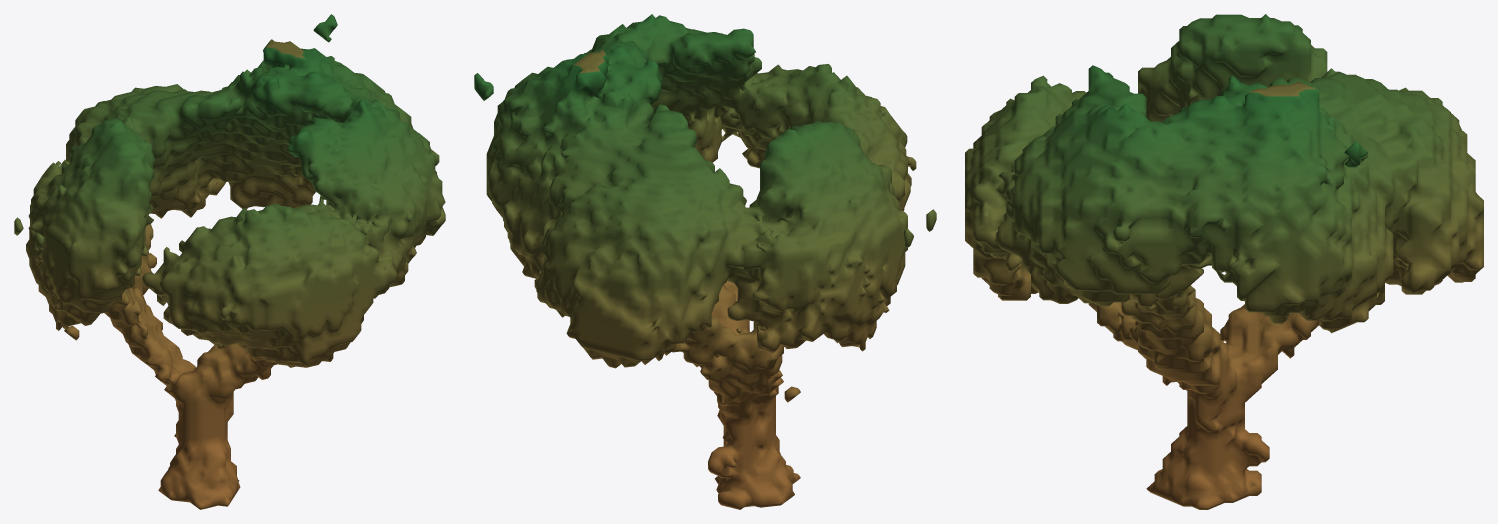
The model's file is gen6_colored.obj.
3 renders of one model, left to right at view 1: azimuth 30°, elevation 25°; view 2: azimuth 150°, elevation 25°; view 3: azimuth 270°, elevation 25°, orthographic. The views are drawn at different scales.
Bounding box in the file's own units: 64 × 63 × 63.
1 material, 1 textured.
